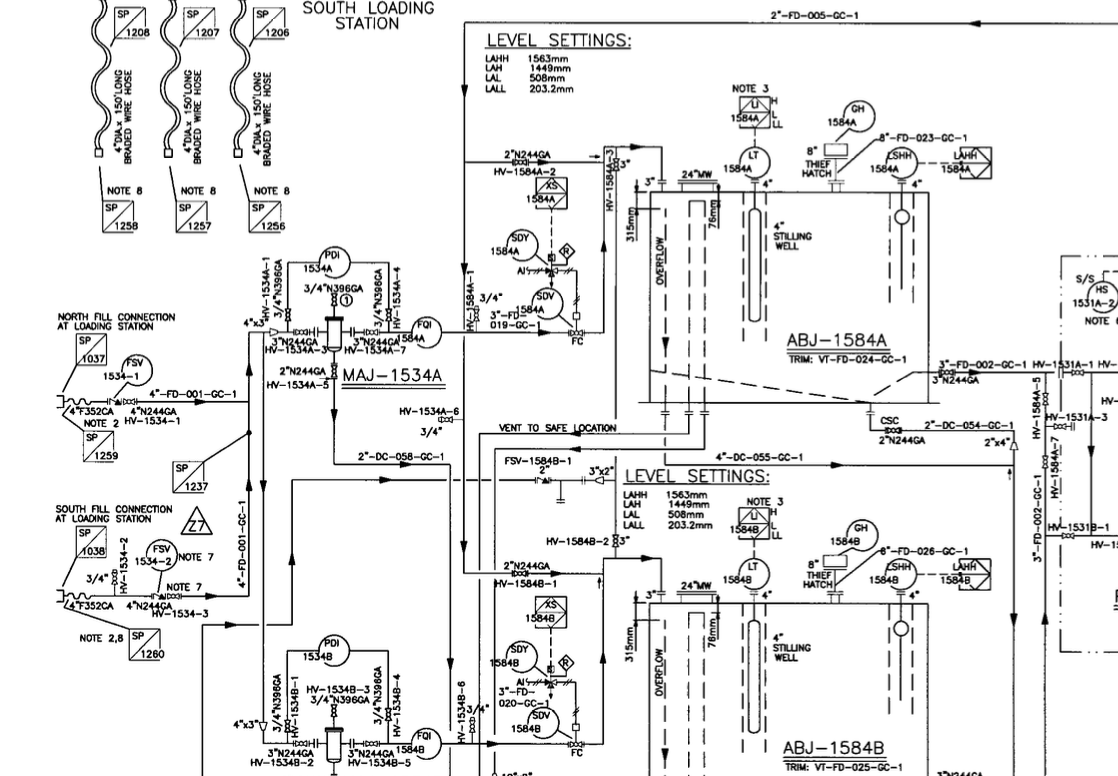Instrument-offset: (512, 282, 570, 325), (825, 92, 879, 137), (488, 631, 541, 675), (487, 222, 542, 263), (507, 702, 563, 742), (719, 141, 776, 180), (864, 555, 922, 593), (102, 352, 161, 388), (396, 312, 449, 352), (304, 630, 355, 670), (828, 513, 880, 552), (303, 239, 355, 278), (721, 554, 772, 592), (869, 145, 922, 181), (131, 533, 178, 572), (398, 722, 444, 761)
Instrument-square-offset: (525, 169, 572, 211), (522, 592, 571, 630), (726, 93, 774, 131), (724, 503, 770, 540)
